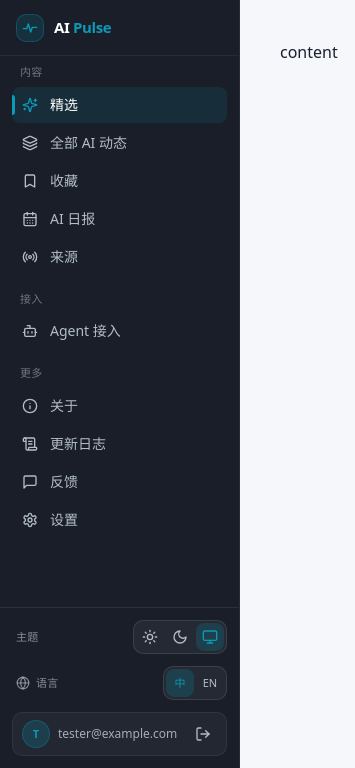
language switching in the UI › defaults to Chinese, then switches to English instantly
This screenshot has width=355, height=768.
Expected: the text "精选" is shown, [50,94,78,114]
Expected: the text "全部 AI 动态" is shown, [50,132,127,152]
// Switch to English via the language switcher.
Click the radio button labelled "EN" at (210, 683), box [196,669,224,697]
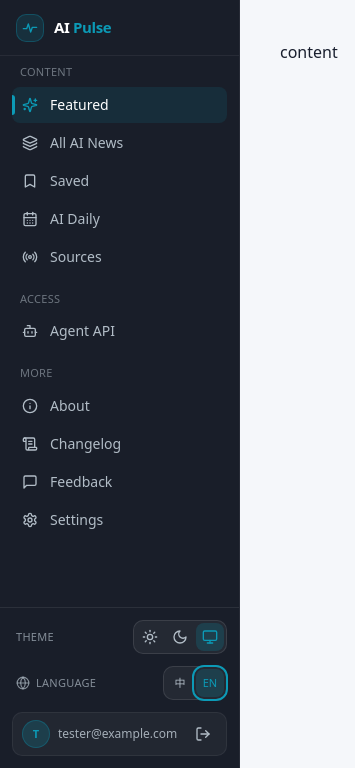
Result: the text "Featured" is shown at [50,94,109,114]
Result: the text "All AI News" is shown at [50,132,123,152]
Result: the link "精选" is gone
